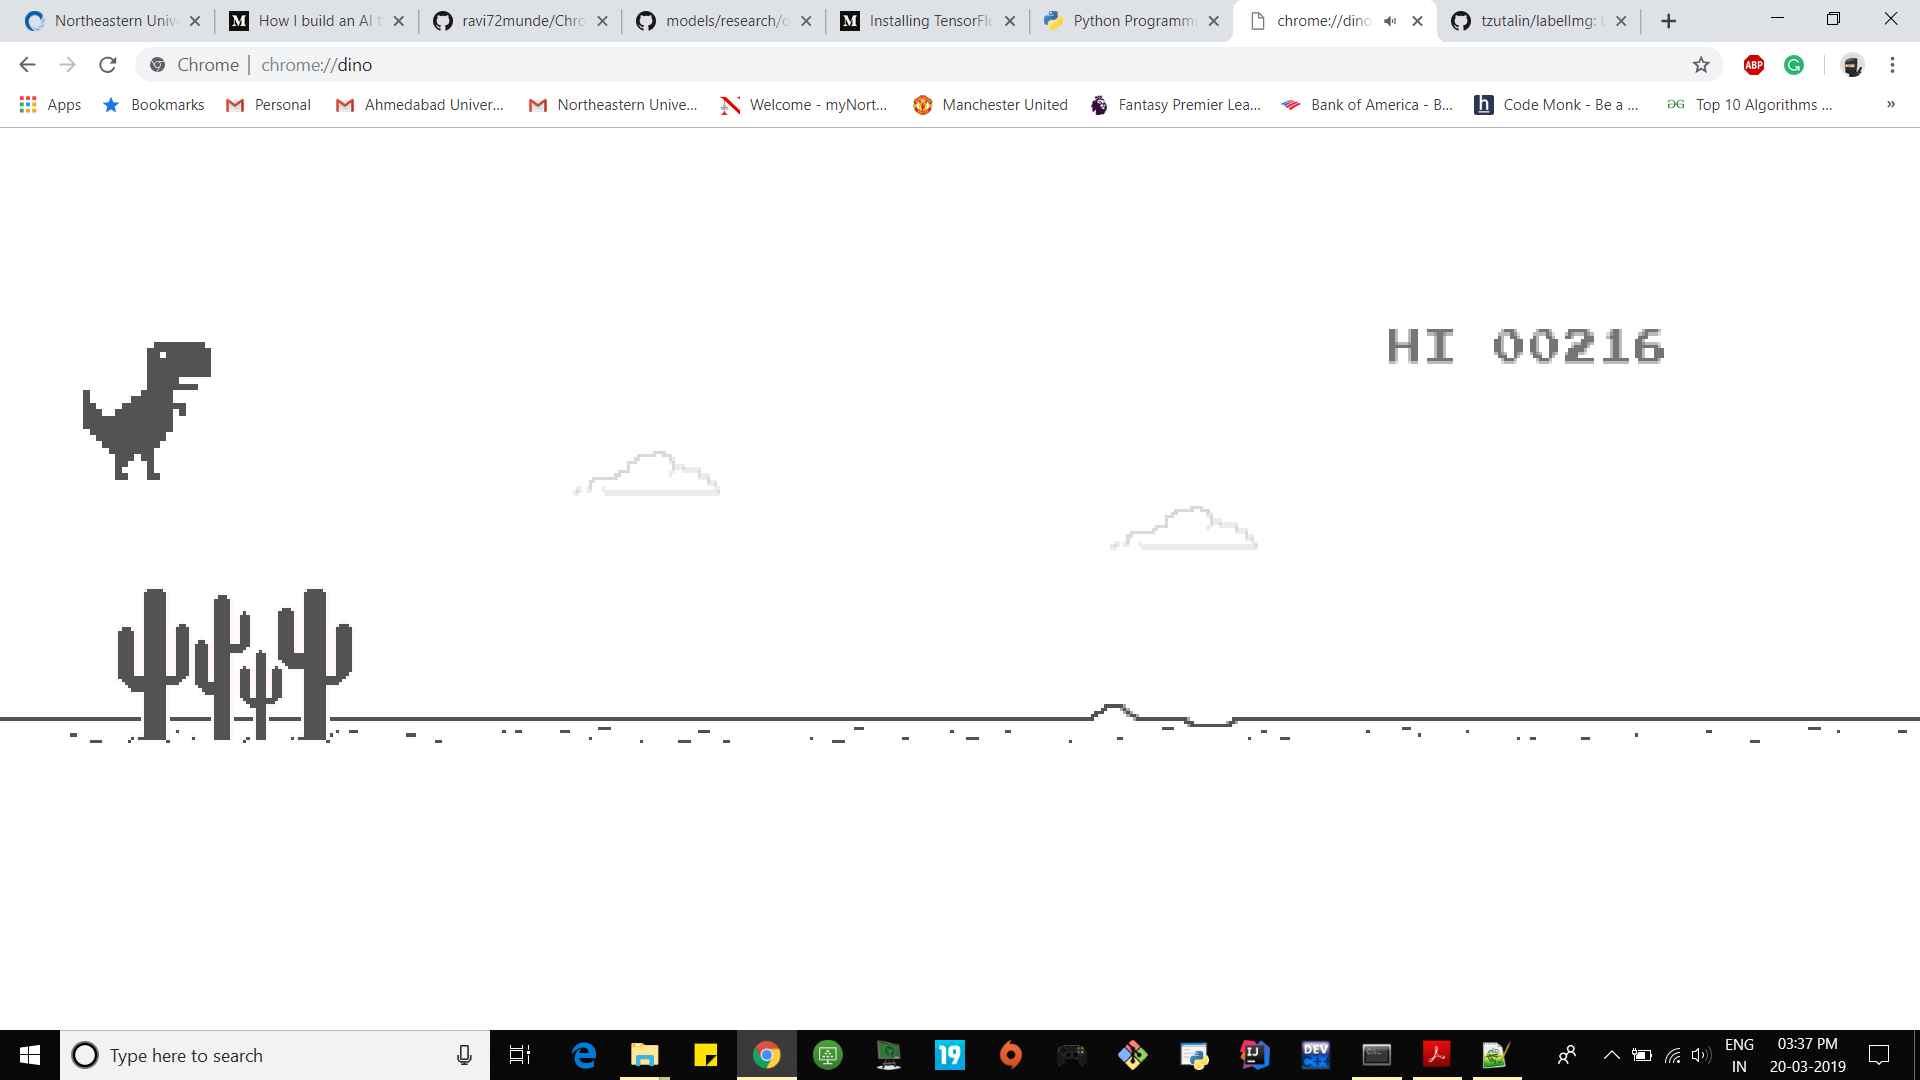cactus-4: (117, 585, 352, 741)
dino: (80, 342, 210, 479)
